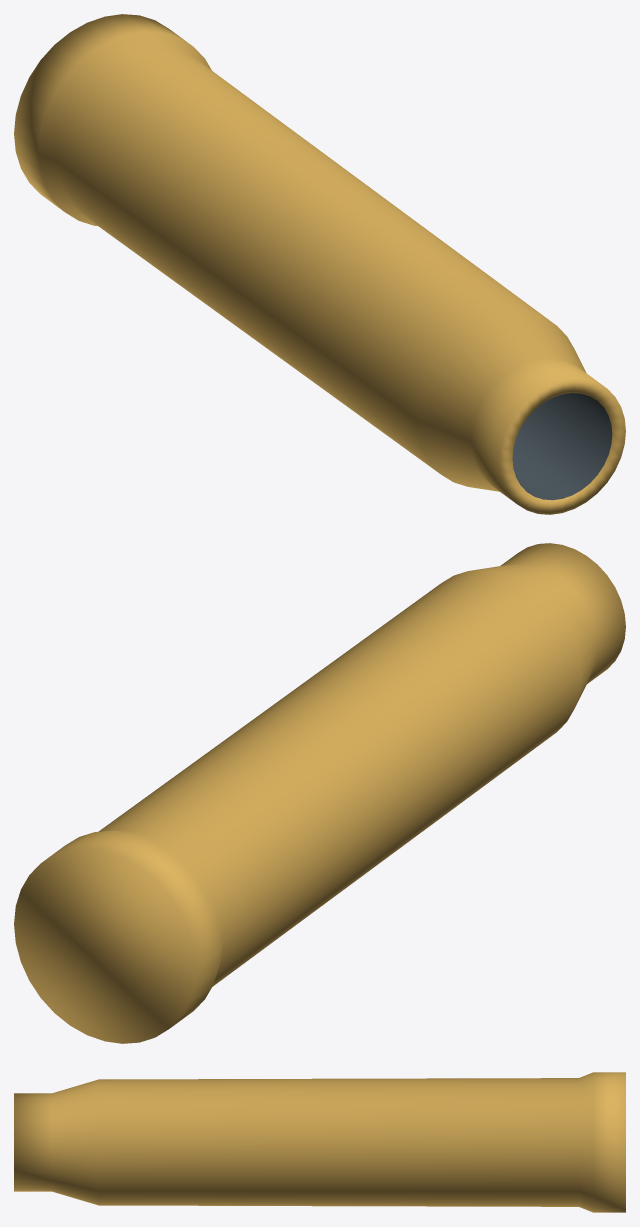
File: tank_dart_case_display.glb
3 views of the same model, one above another, from view 1: azimuth 30°, elevation 25°; view 2: azimuth 150°, elevation 25°; view 3: azimuth 270°, elevation 25° (orthographic). The views are drawn at different scales.
Parts seen in each view (by area): view 1: AMMO_MESH.041; view 2: AMMO_MESH.041; view 3: AMMO_MESH.041.
Part boxes in pixels (x1,y1,x2,y2): AMMO_MESH.041: [14, 14, 625, 514]; AMMO_MESH.041: [14, 543, 625, 1043]; AMMO_MESH.041: [14, 1072, 625, 1212].
Size of the model in its own units: 0.14 by 0.14 by 0.611.
